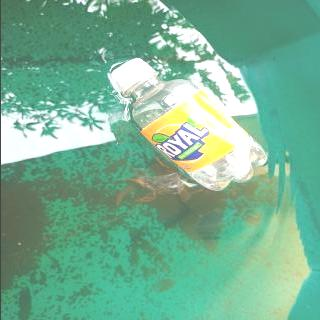bottle: (105, 56, 270, 192)
